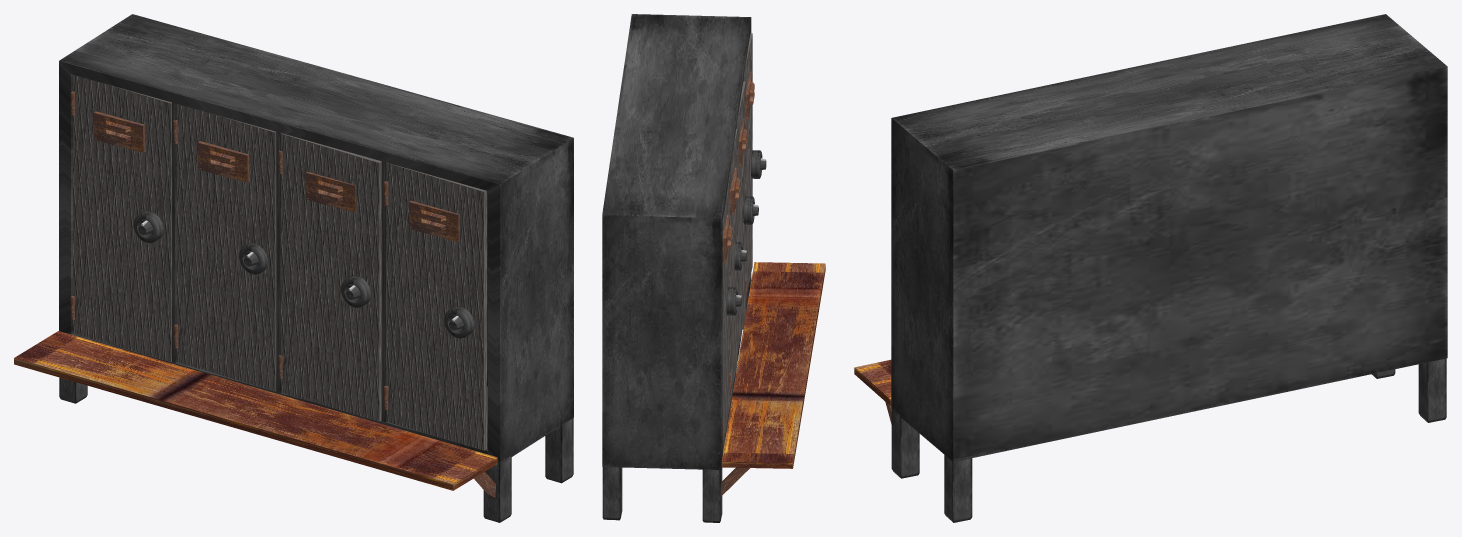
File: locker.FBX
3 views of the same model, side by side, from view 1: azimuth 30°, elevation 25°; view 2: azimuth 150°, elevation 25°; view 3: azimuth 270°, elevation 25° (orthographic). The views are drawn at different scales.
Visible parts, largest first — view 1: ovi (×4), Kaappi, Tuoli, Säleikkö, jalka (×2), Väliseinä, Väliseinä001, Väliseinä002, saranat, Lukko001, Lukko, Lukko005 (+1 smaller); view 2: Kaappi, Tuoli, ovi (×4), jalka (×2), Säleikkö, Lukko001, Lukko005, Lukko, tuolin tuki 2, saranat, Lukko003; view 3: Kaappi, jalka (×3), Tuoli.
Part boxes in pixels (<box>): ovi (×4): <box>73,75,486,450</box>; Kaappi: <box>59,14,573,464</box>; Tuoli: <box>14,331,497,490</box>; Säleikkö: <box>93,111,459,241</box>; jalka (×2): <box>483,418,573,522</box>; Väliseinä: <box>381,161,386,422</box>; Väliseinä001: <box>276,132,281,392</box>; Väliseinä002: <box>172,102,176,363</box>; saranat: <box>70,91,388,410</box>; Lukko001: <box>341,275,371,307</box>; Lukko: <box>444,306,474,338</box>; Lukko005: <box>133,210,163,243</box>; Kaappi: <box>602,14,751,469</box>; Tuoli: <box>721,262,825,468</box>; ovi (×4): <box>722,33,752,438</box>; jalka (×2): <box>602,467,722,522</box>; Säleikkö: <box>722,71,754,262</box>; Lukko001: <box>743,196,758,224</box>; Lukko005: <box>726,287,741,315</box>; Lukko: <box>751,150,766,178</box>; tuolin tuki 2: <box>721,467,749,495</box>; saranat: <box>722,95,746,442</box>; Lukko003: <box>734,242,746,270</box>; Kaappi: <box>891,14,1447,461</box>; jalka (×3): <box>891,358,1446,522</box>; Tuoli: <box>854,359,891,406</box>.
Bounding box in the file's own units: 84.55 × 74.52 × 113.
4 materials, 4 textured.
